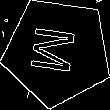M_E: (29, 25, 86, 79)
